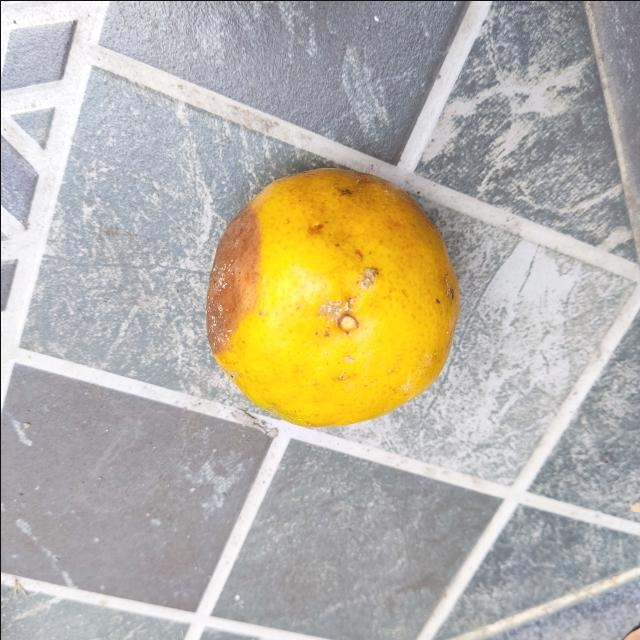agrume: (204, 164, 460, 429)
